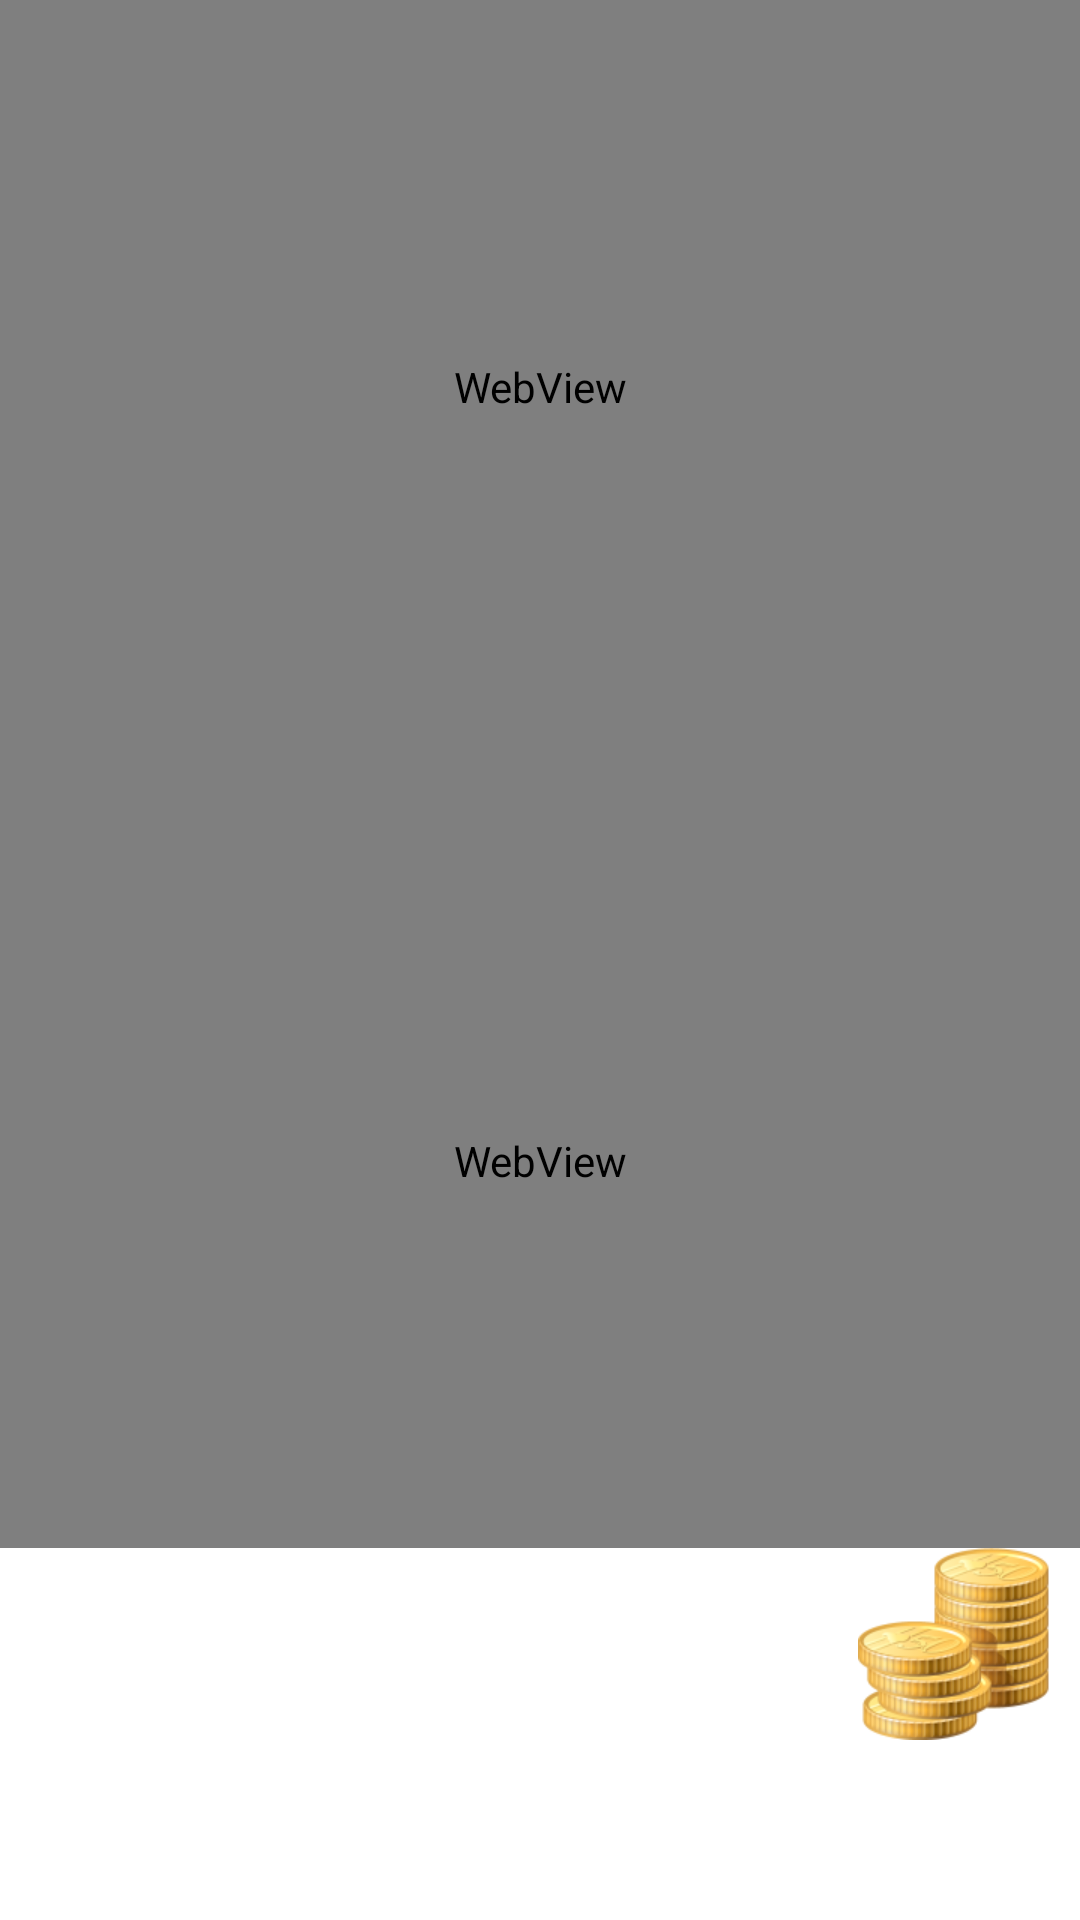

Where to tap for icons on this 1080px×1920px app screen, as (x,y):
dashboard budget: (953,1644)
